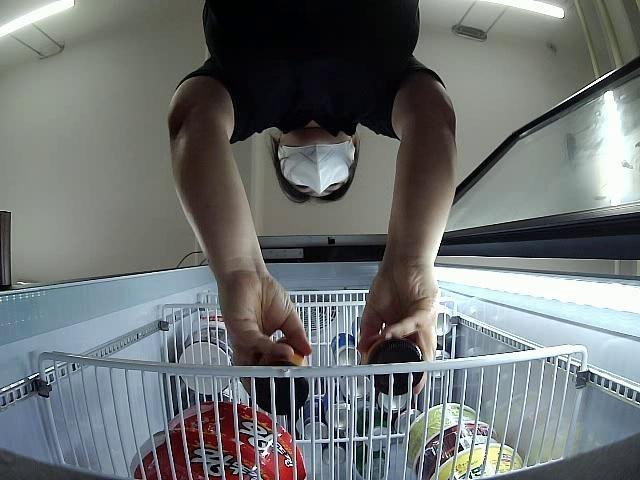17_vita500: (256, 338, 310, 416), (364, 336, 424, 393)
